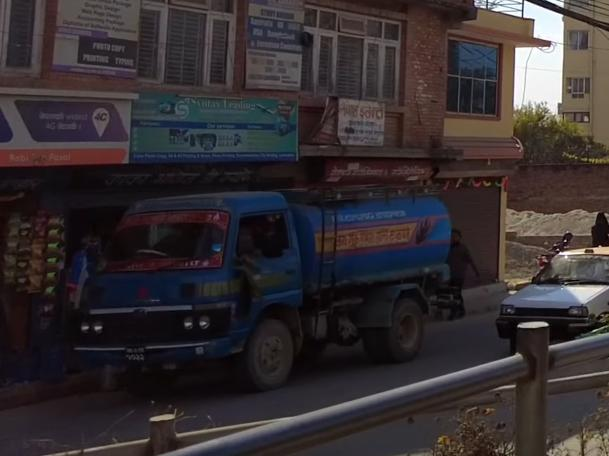mini_truck: (75, 177, 462, 399)
taxi: (473, 236, 609, 344)
